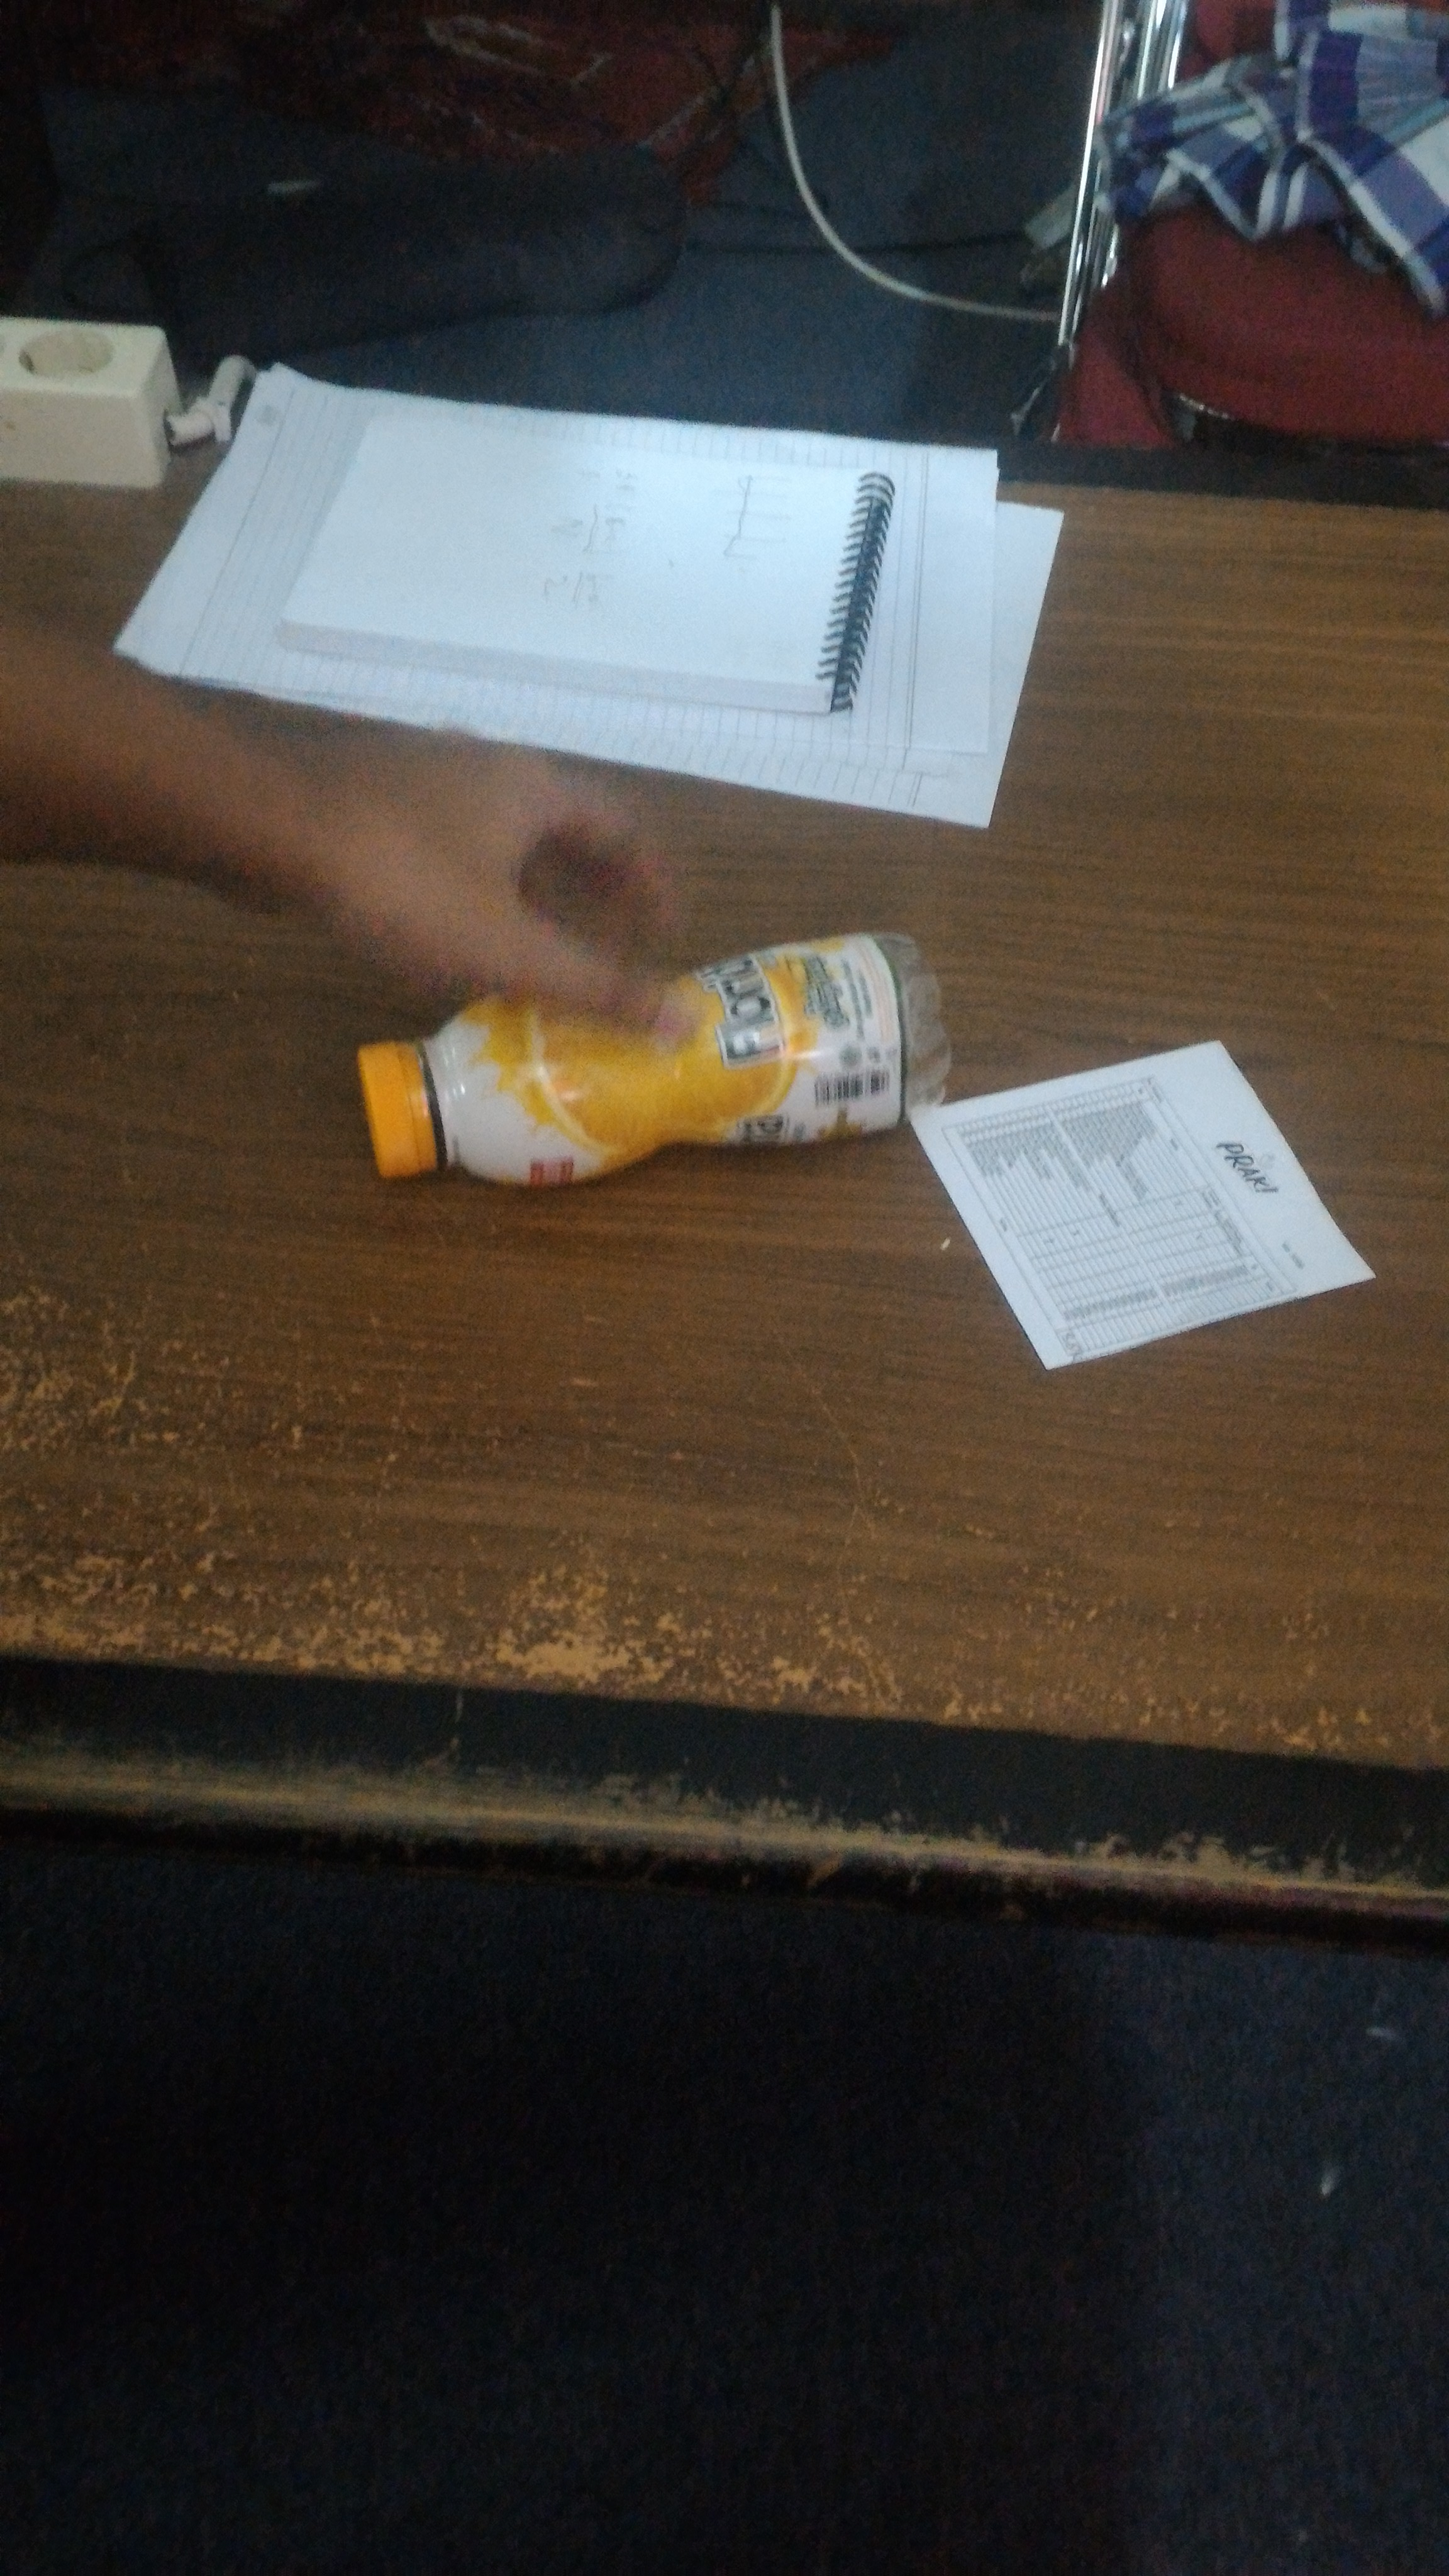botol: (343, 925, 954, 1185), (343, 950, 954, 1185)
